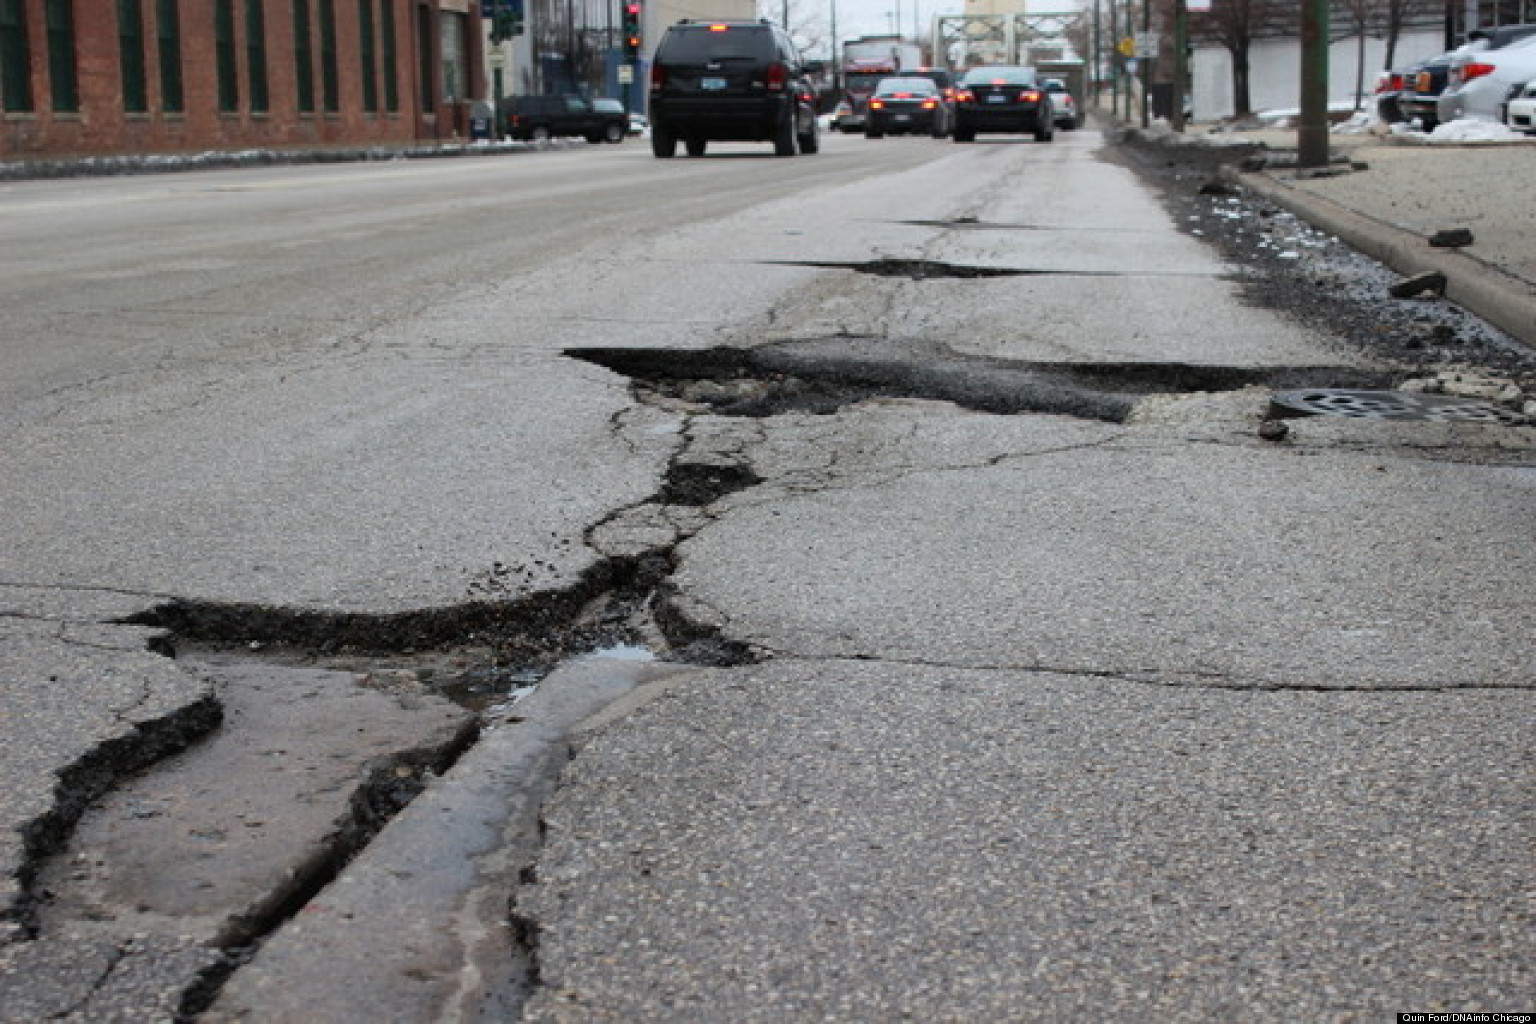pothole: (37, 448, 693, 1021), (569, 259, 1194, 479), (875, 175, 1027, 243)
